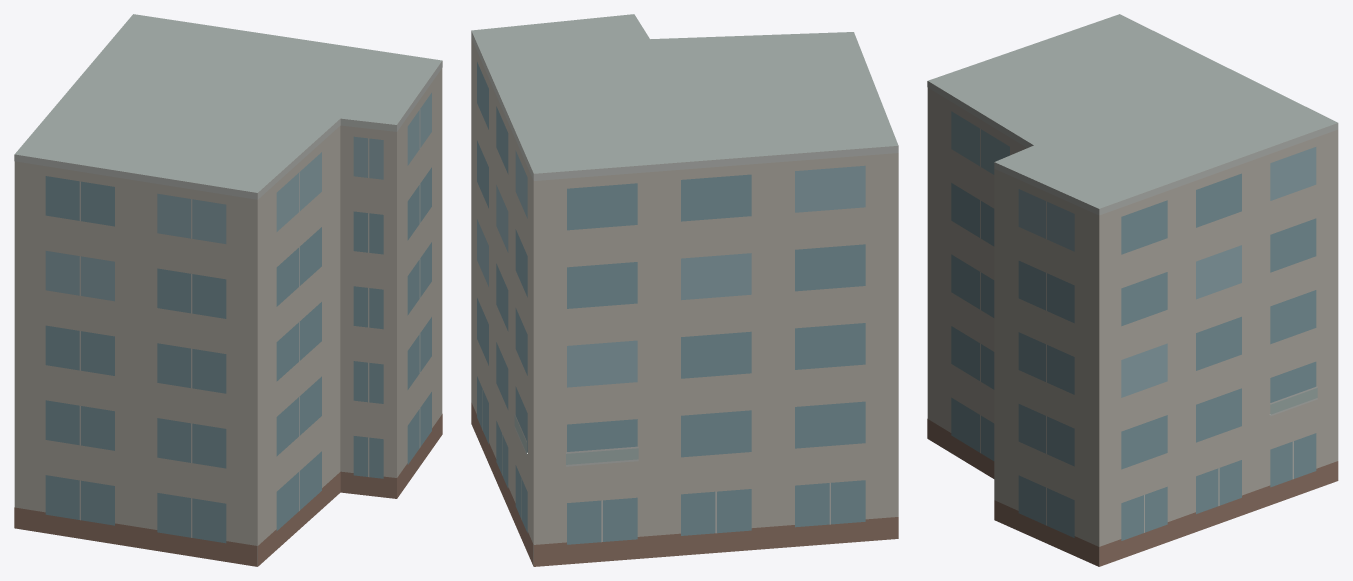
Rendered from survey-upis-32628304.glb.
The picture shows the model from 3 angles, left to right: view 1: azimuth 30°, elevation 25°; view 2: azimuth 150°, elevation 25°; view 3: azimuth 270°, elevation 25°; orthographic projection. The views are drawn at different scales.
Visible parts, largest first — view 1: survey-upis-32628304.tmp; view 2: survey-upis-32628304.tmp; view 3: survey-upis-32628304.tmp.
Part boxes in pixels (x1,y1,x2,y2): survey-upis-32628304.tmp: (14, 14, 442, 566); survey-upis-32628304.tmp: (471, 14, 898, 566); survey-upis-32628304.tmp: (927, 14, 1338, 566).
Size of the model in its own units: 15.42 by 13.2 by 13.74.
